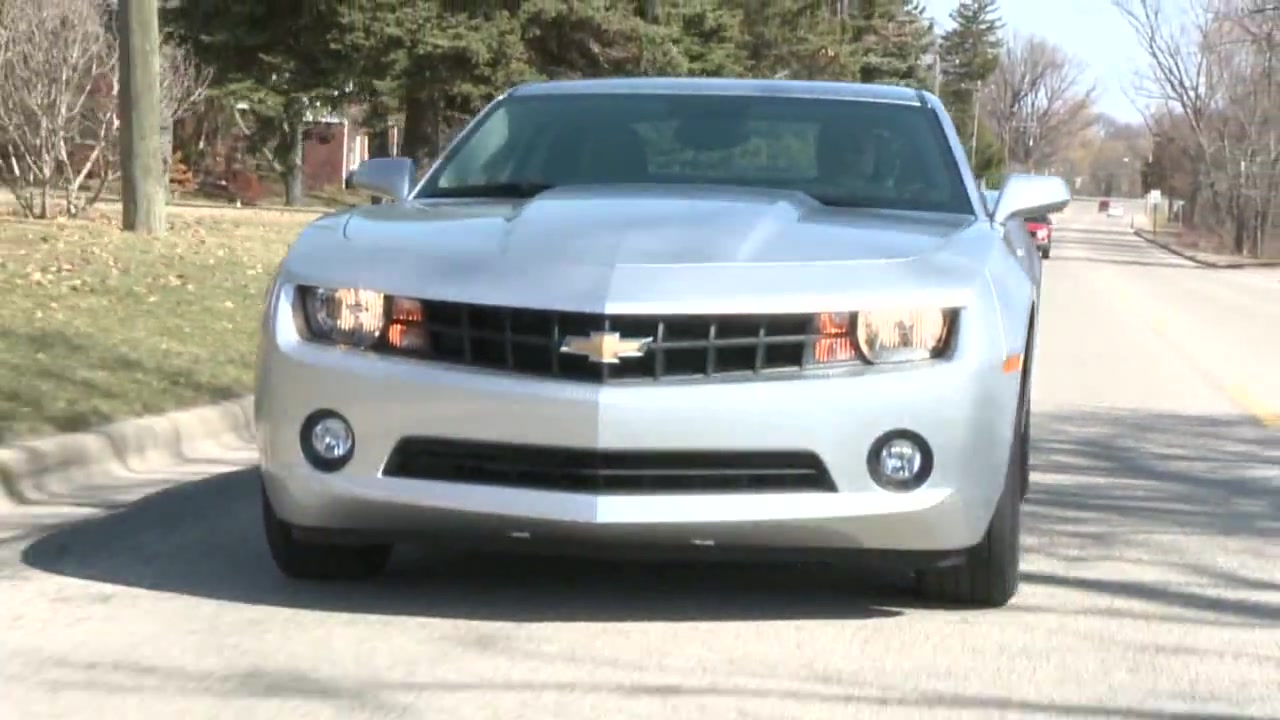car: (254, 72, 1072, 613)
